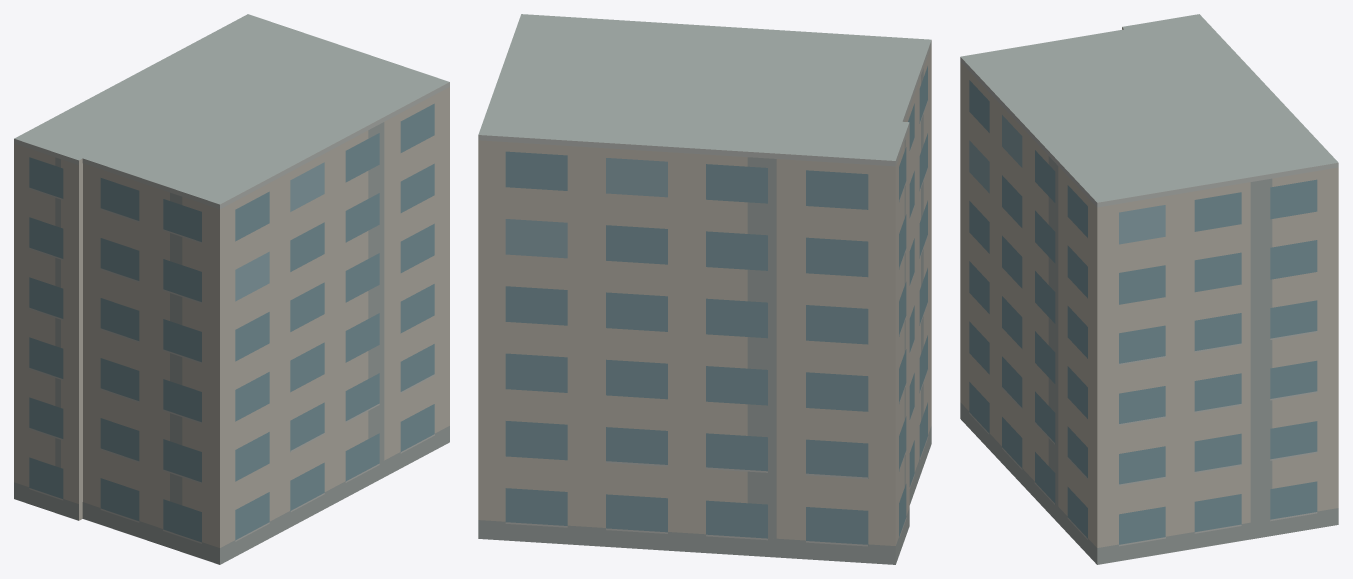
Rendered from survey-upis-33010698.glb.
3 views of the same model, side by side, from view 1: azimuth 30°, elevation 25°; view 2: azimuth 150°, elevation 25°; view 3: azimuth 270°, elevation 25° (orthographic). The views are drawn at different scales.
Parts seen in each view (by area): view 1: survey-upis-33010698.tmp; view 2: survey-upis-33010698.tmp; view 3: survey-upis-33010698.tmp.
Boxes of the visible parts, box(x1,y1,x2,y2) form: survey-upis-33010698.tmp: box(14, 14, 449, 564); survey-upis-33010698.tmp: box(478, 14, 931, 564); survey-upis-33010698.tmp: box(960, 14, 1338, 564).
Bounding box in the file's own units: 20.47 × 18.3 × 17.34.
